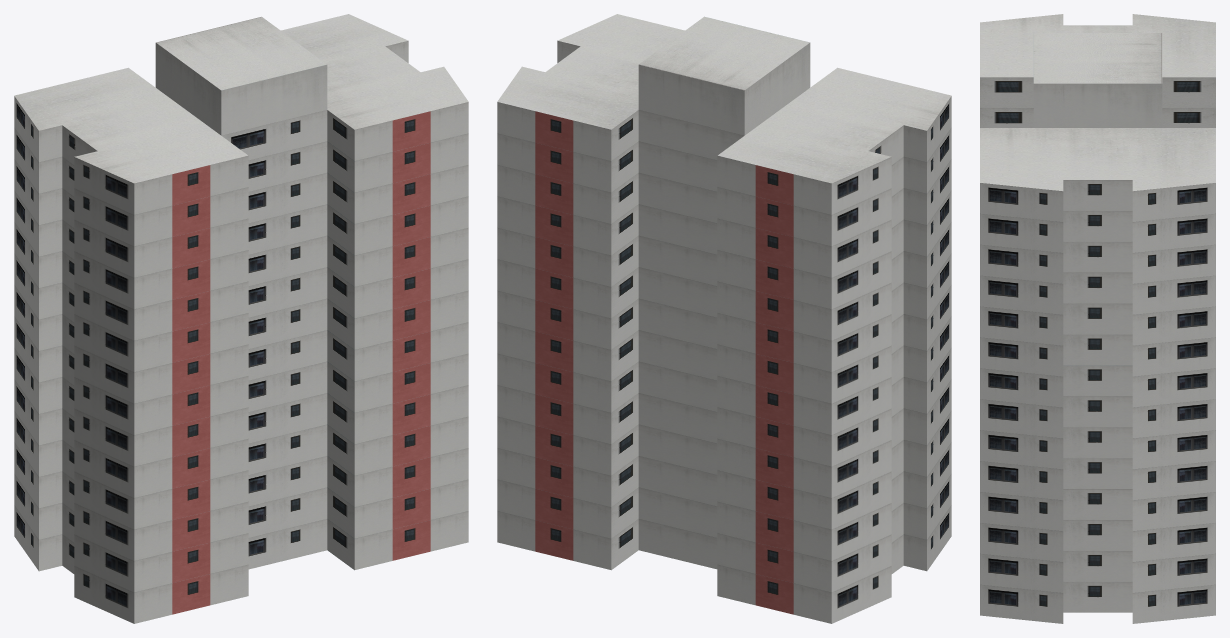
File: Building-04b.fbx
3 renders of one model, left to right at view 1: azimuth 30°, elevation 25°; view 2: azimuth 150°, elevation 25°; view 3: azimuth 270°, elevation 25°, orthographic.
Visible parts, largest first — view 1: Building-04; view 2: Building-04; view 3: Building-04.
Part boxes in pixels (x1=…): Building-04: x1=14, y1=14, x2=468, y2=623; Building-04: x1=497, y1=14, x2=951, y2=623; Building-04: x1=980, y1=14, x2=1215, y2=623.
Bounding box in the file's own units: 3903 × 4899 × 2195.
